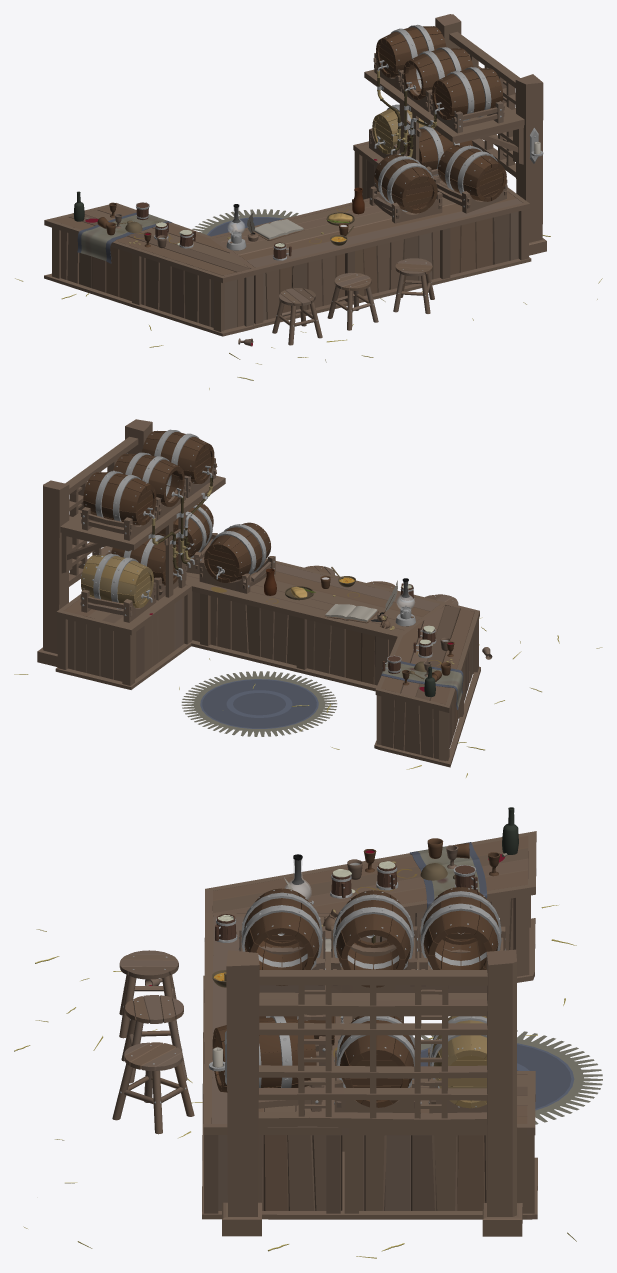
File: Solo_bancone.fbx
3 views of the same model, one above another, from view 1: azimuth 30°, elevation 25°; view 2: azimuth 150°, elevation 25°; view 3: azimuth 270°, elevation 25° (orthographic). The views are drawn at different scales.
Parts seen in each view (by area): view 1: Cylinder.356; view 2: Cylinder.356; view 3: Cylinder.356.
Part boxes in pixels (x1,y1,x2,y2): Cylinder.356: [15, 14, 602, 389]; Cylinder.356: [14, 419, 602, 777]; Cylinder.356: [14, 807, 602, 1258].
Bounding box in the file's own units: 823 × 316 × 580.
45 materials, 2 textured.
